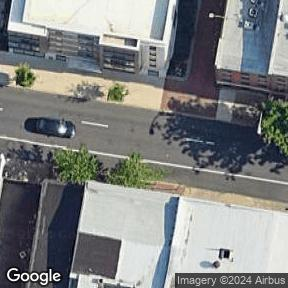vegetation: (104, 148, 165, 191), (52, 142, 101, 189), (258, 101, 288, 158), (12, 62, 38, 88), (108, 83, 124, 102)
